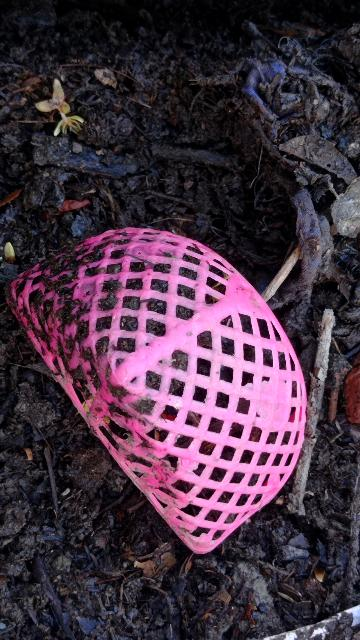hardplastic: (2, 171, 354, 568)
